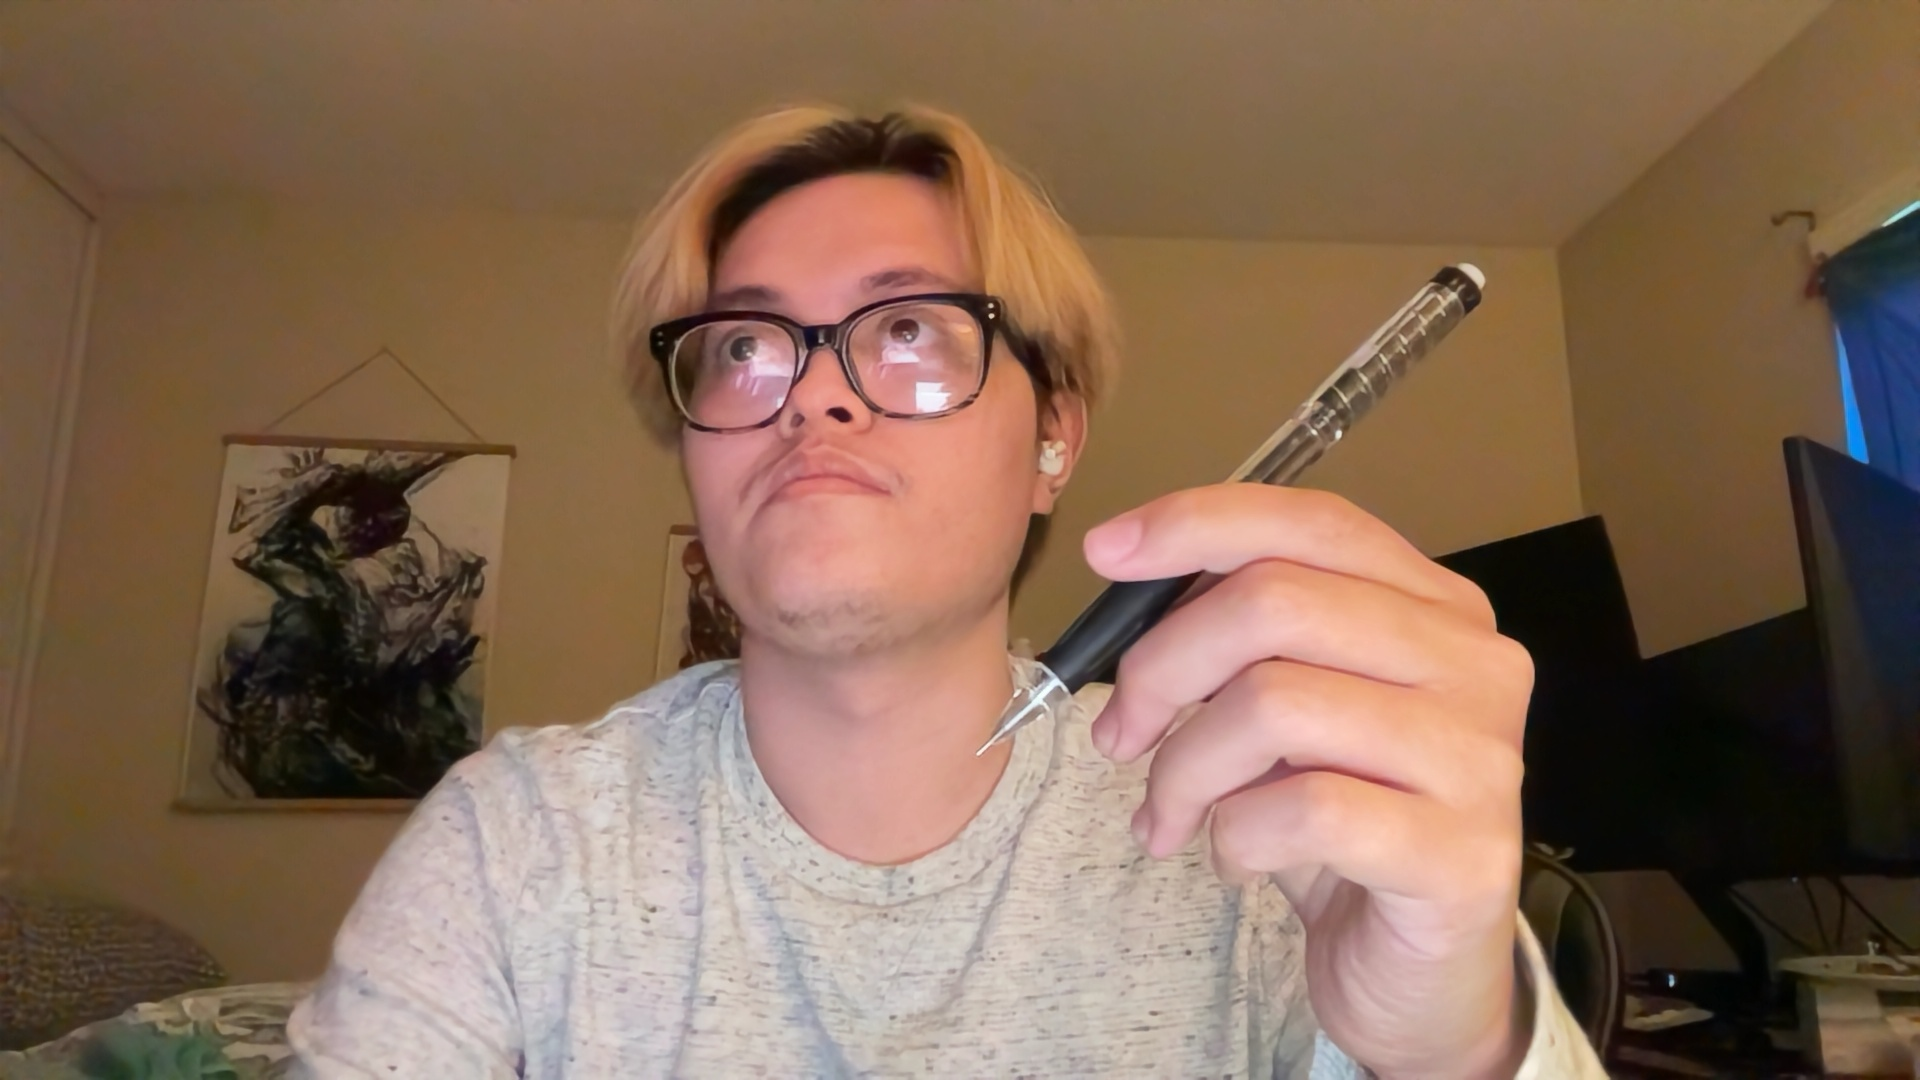pencil: (957, 243, 1501, 779)
